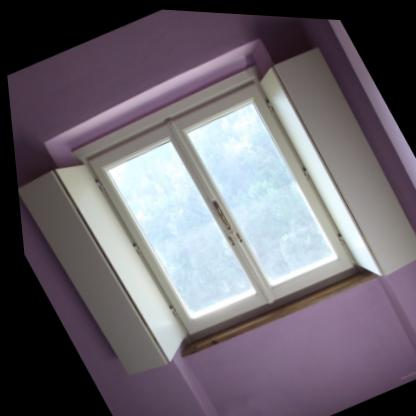Window: (65, 62, 366, 357)
